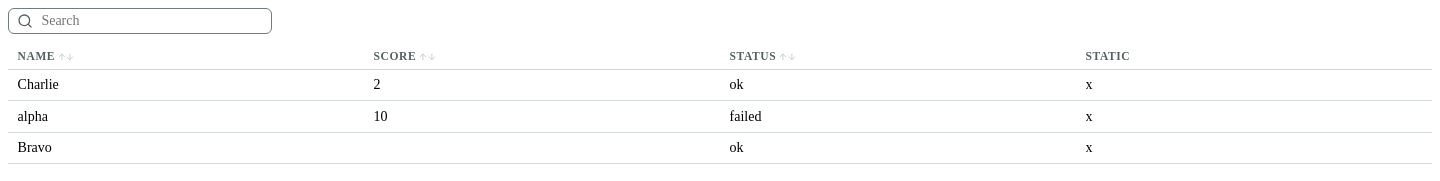
Test case: search filters rows and shows an empty state
Type "brav" into the search field at [151, 21], box [39,12,263,30]
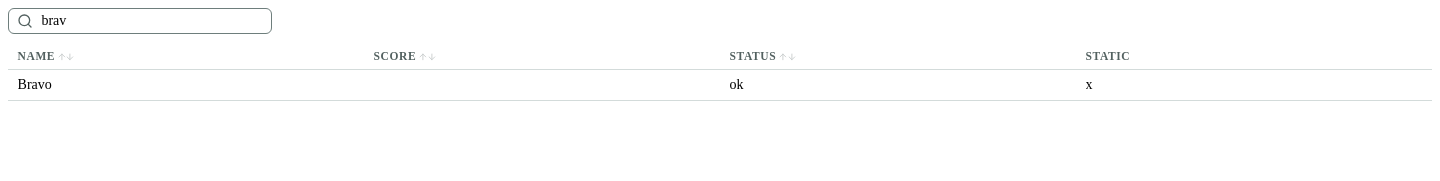
Replace the text in the search field with "zzz" at [151, 21], box [39,12,263,30]
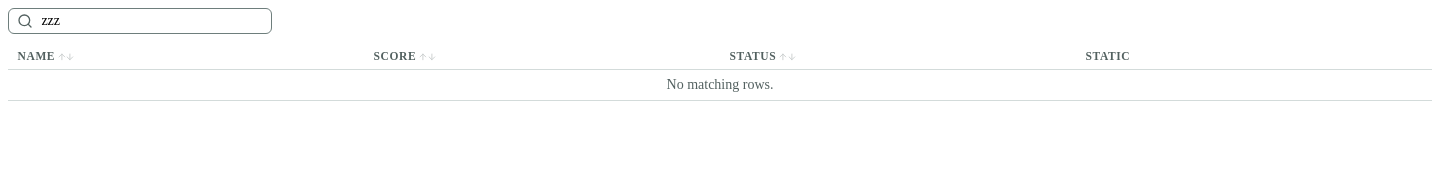
Now the text "No matching rows." is shown, box [8,70,1432,101]
